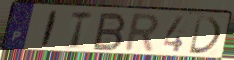4: (161, 15, 185, 55)
B: (90, 12, 128, 52)
D: (187, 15, 224, 55)
I: (39, 10, 60, 49)
R: (121, 13, 161, 55)
T: (69, 10, 95, 51)
